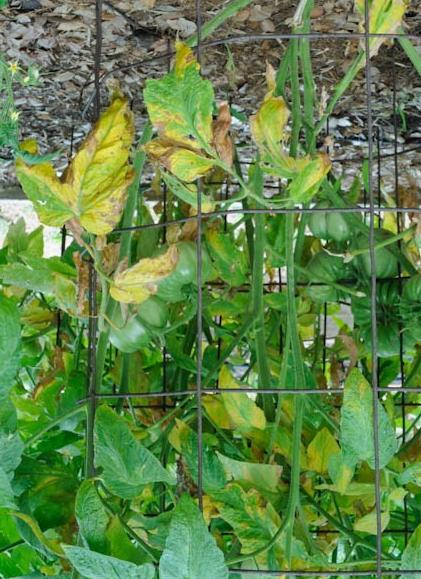Tomato Early blight leaf: (246, 70, 345, 201), (144, 39, 234, 180), (67, 103, 135, 238), (113, 230, 185, 308), (218, 366, 268, 430), (304, 427, 340, 478)
Tomato leaf: (93, 408, 162, 503), (161, 487, 227, 579), (64, 551, 154, 579)
